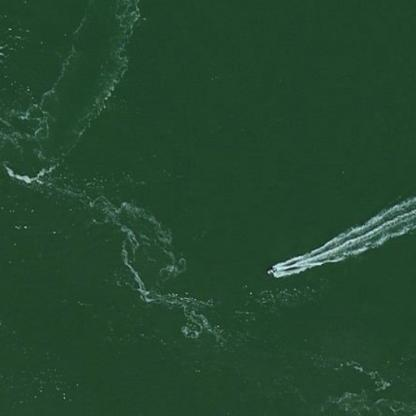ship: (258, 252, 285, 283)
